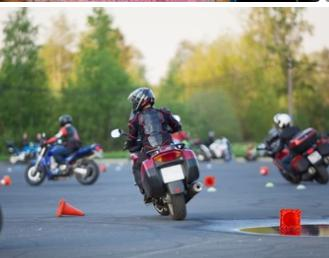rear: (139, 148, 201, 223)
